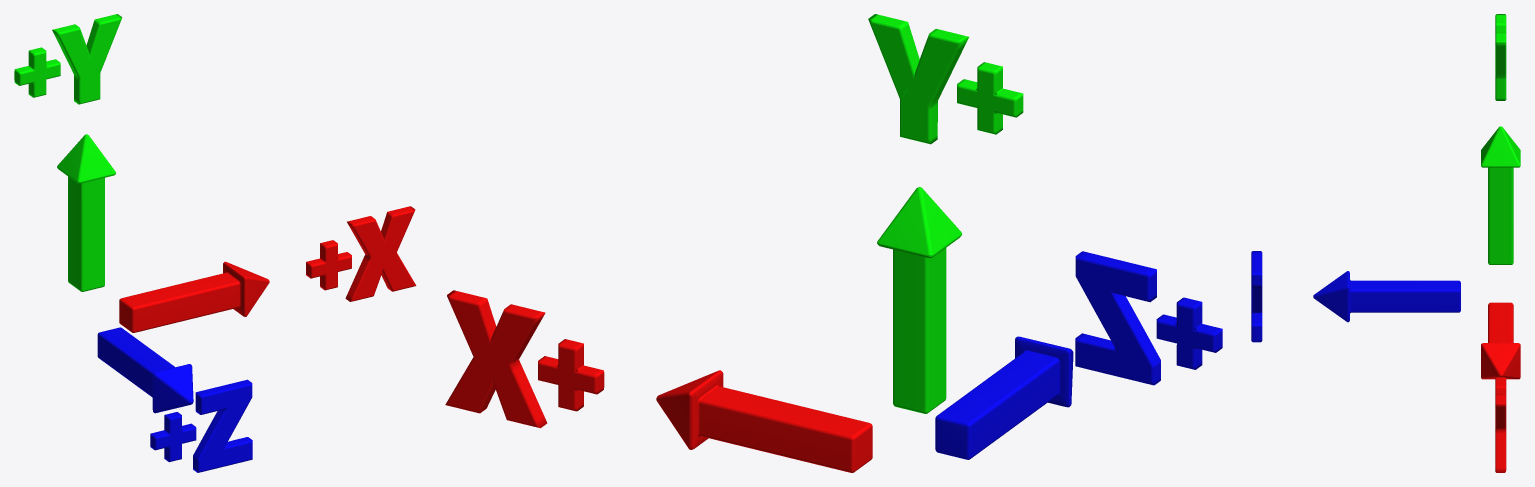
The model's file is axes_decameter.glb.
3 views of the same model, side by side, from view 1: azimuth 30°, elevation 25°; view 2: azimuth 150°, elevation 25°; view 3: azimuth 270°, elevation 25° (orthographic). The views are drawn at different scales.
Parts seen in each view (by area): view 1: CoordinateSystem, X_axis, Z_axis, Y_axis; view 2: CoordinateSystem, X_axis, Z_axis, Y_axis; view 3: CoordinateSystem, X_axis, Z_axis, Y_axis.
Boxes of the visible parts, box(x1,y1,x2,y2) form: CoordinateSystem: box(57, 134, 269, 413); X_axis: box(306, 206, 416, 301); Z_axis: box(150, 379, 252, 472); Y_axis: box(14, 14, 122, 104); CoordinateSystem: box(656, 187, 1073, 472); X_axis: box(445, 290, 604, 428); Z_axis: box(1075, 251, 1222, 385); Y_axis: box(868, 14, 1023, 144); CoordinateSystem: box(1313, 126, 1520, 379); X_axis: box(1495, 376, 1506, 472); Z_axis: box(1251, 251, 1262, 342); Y_axis: box(1495, 14, 1506, 100).
Bounding box in the file's own units: 0.1563 × 0.1275 × 0.1028.
Materials: 1 (1 with a texture image).
